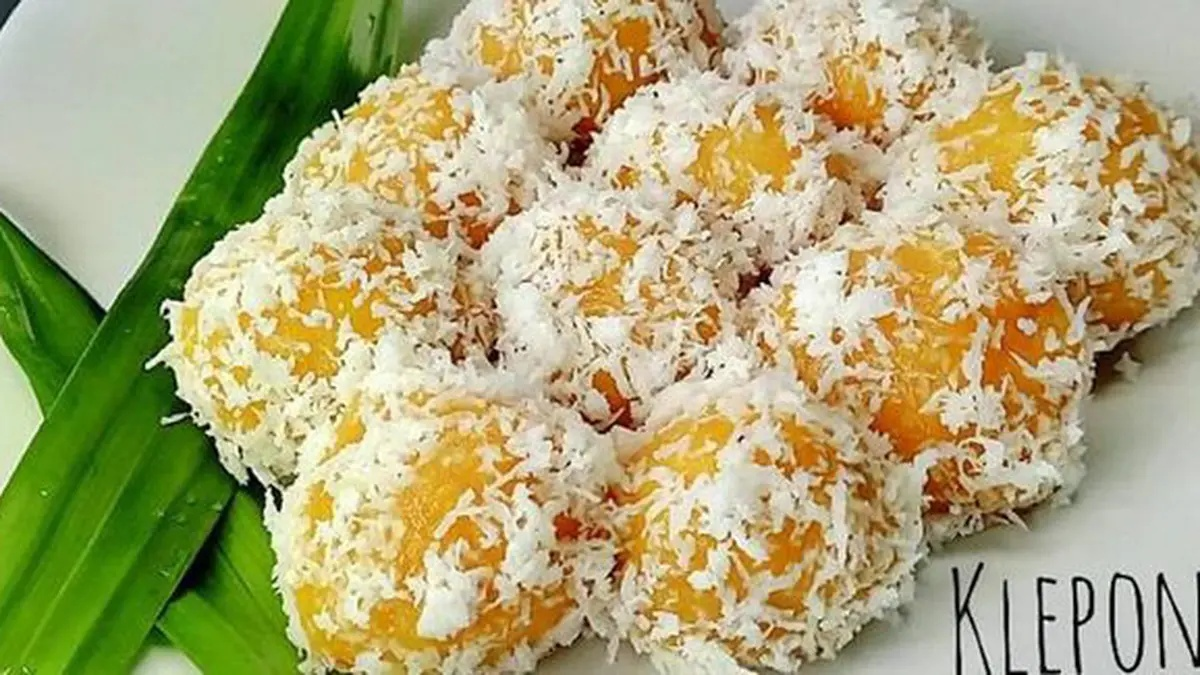klepon: (233, 350, 623, 675)
